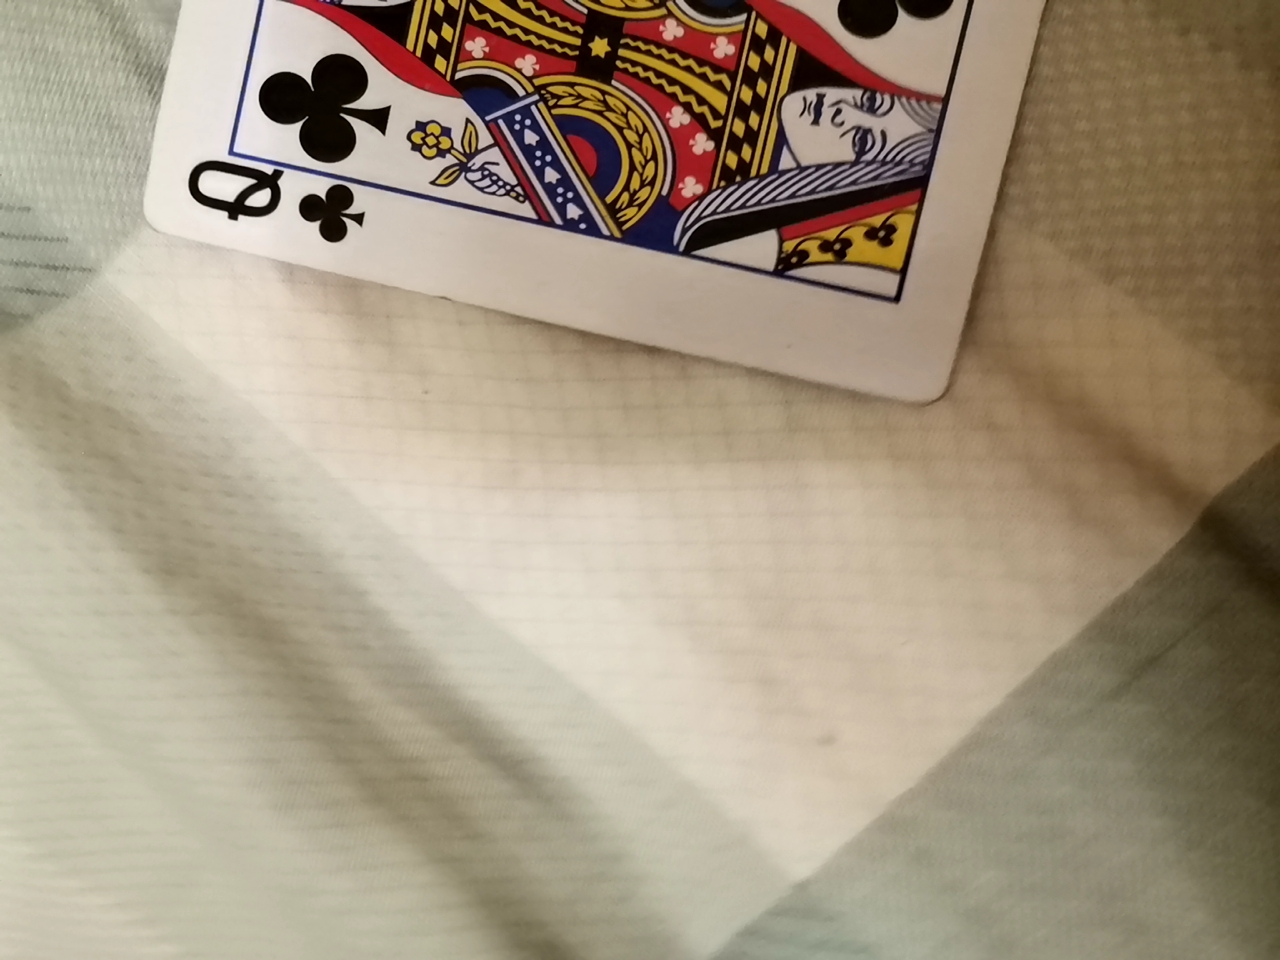mh q: (111, 0, 1032, 421)
